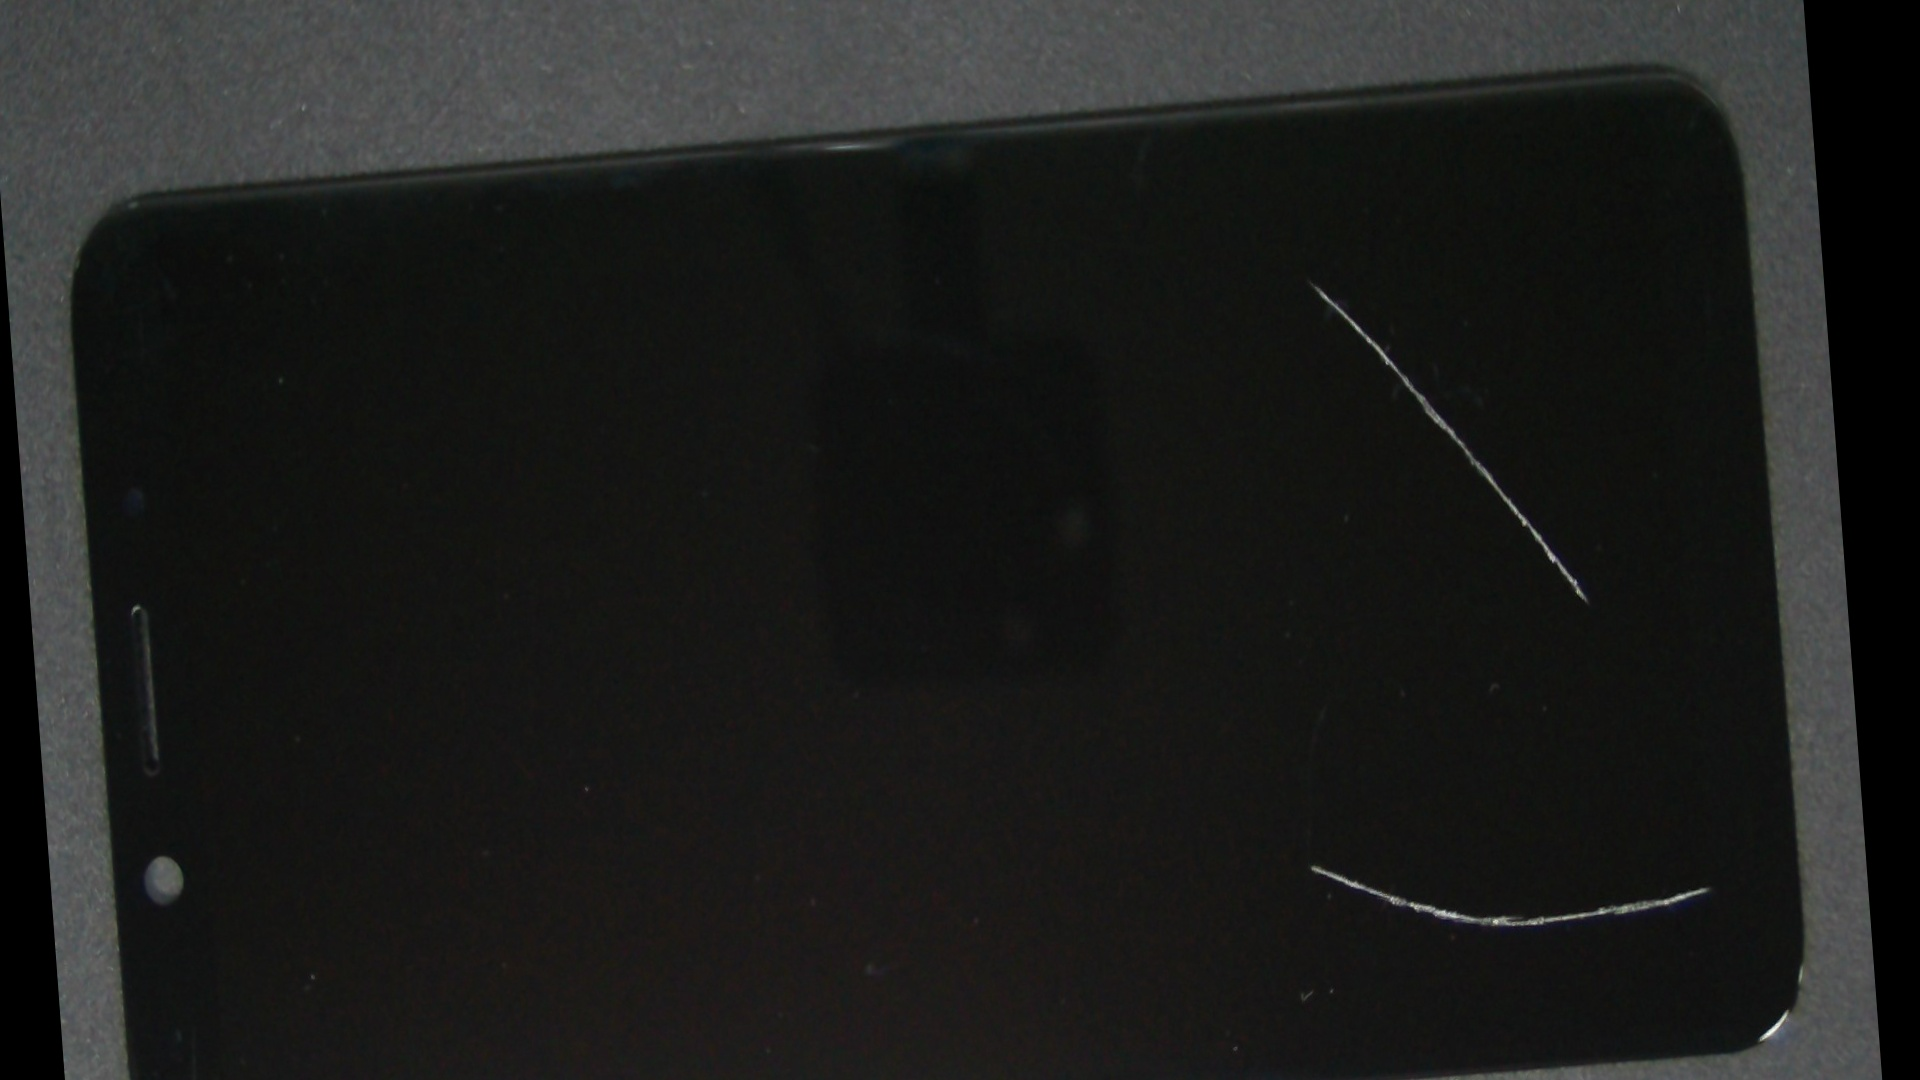oil: (650, 344, 1886, 1080), (647, 55, 1834, 516)
